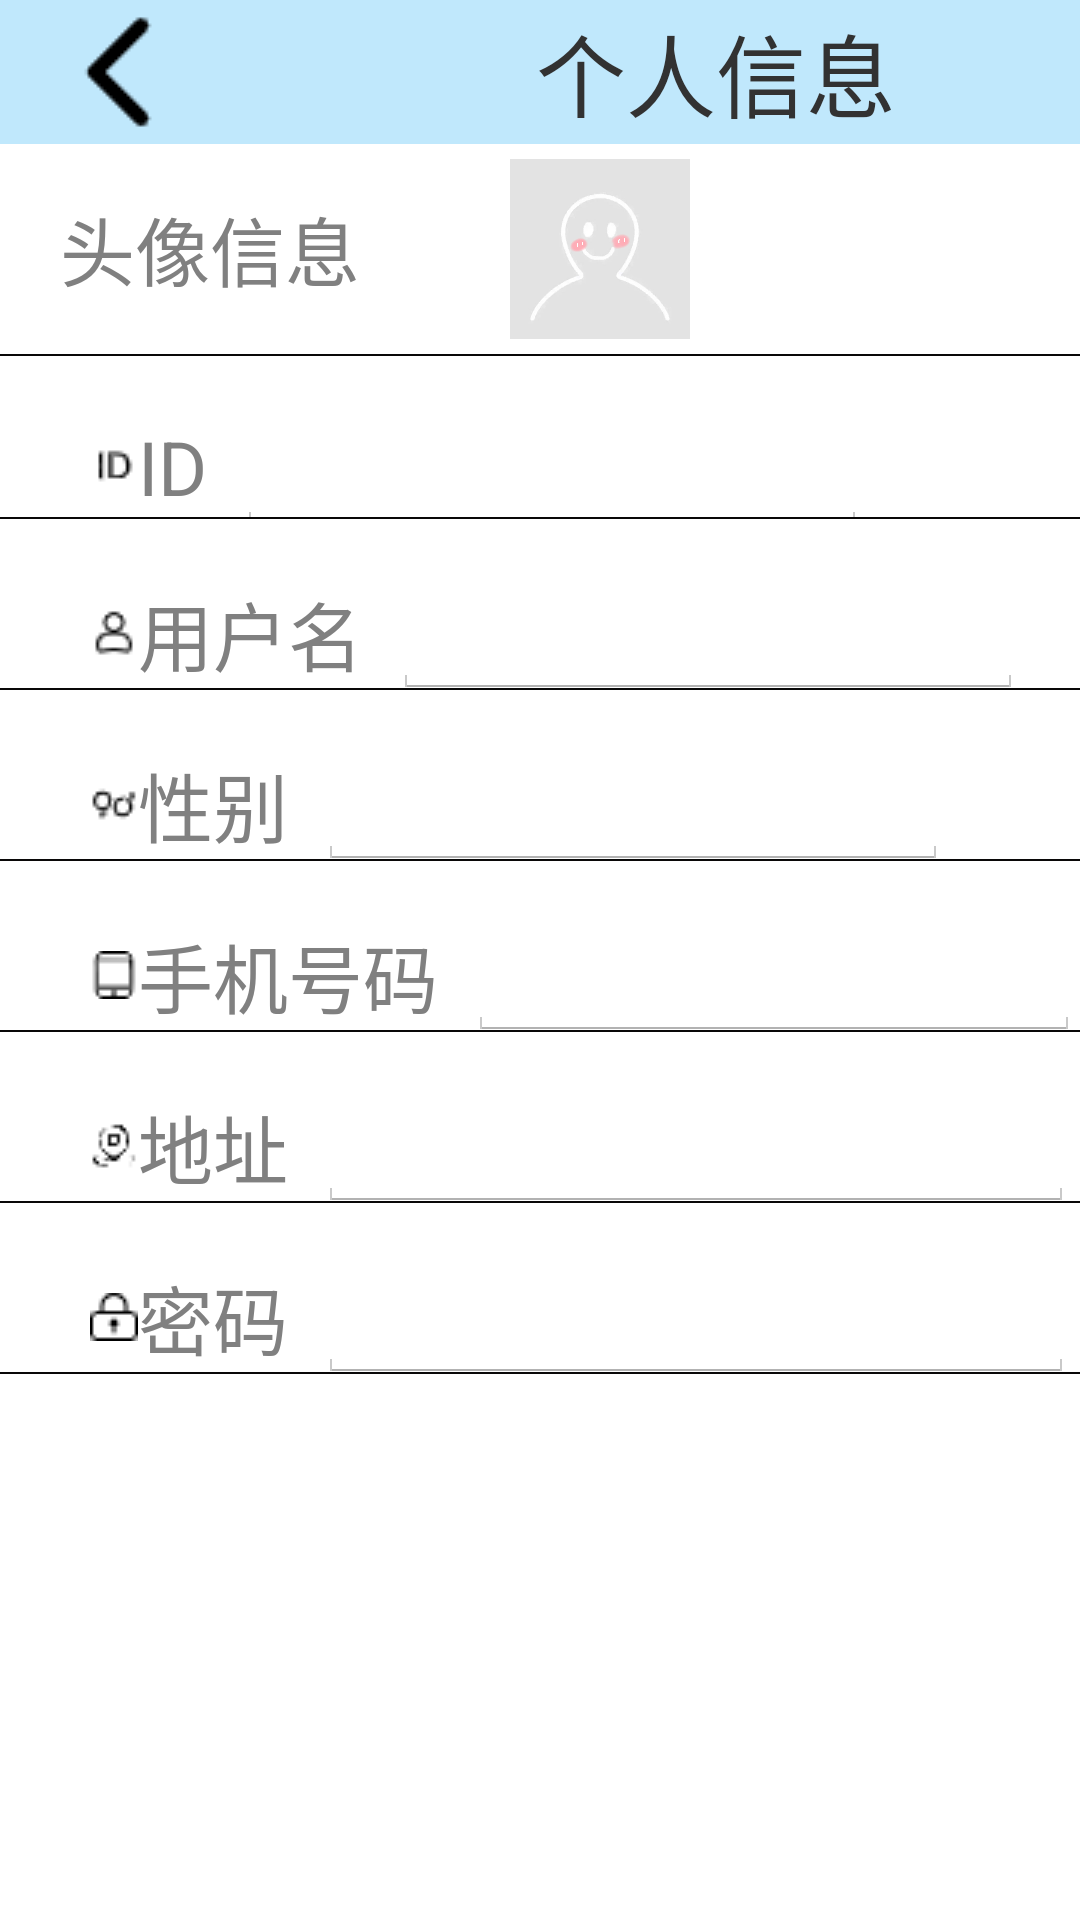

Screen size 1080px x 1920px. Icon name, then its box in pixels as bbox=(x1, y1, x2, y2):
jiantou: bbox=(85, 17, 151, 127)
touxiang: bbox=(510, 159, 690, 339)
